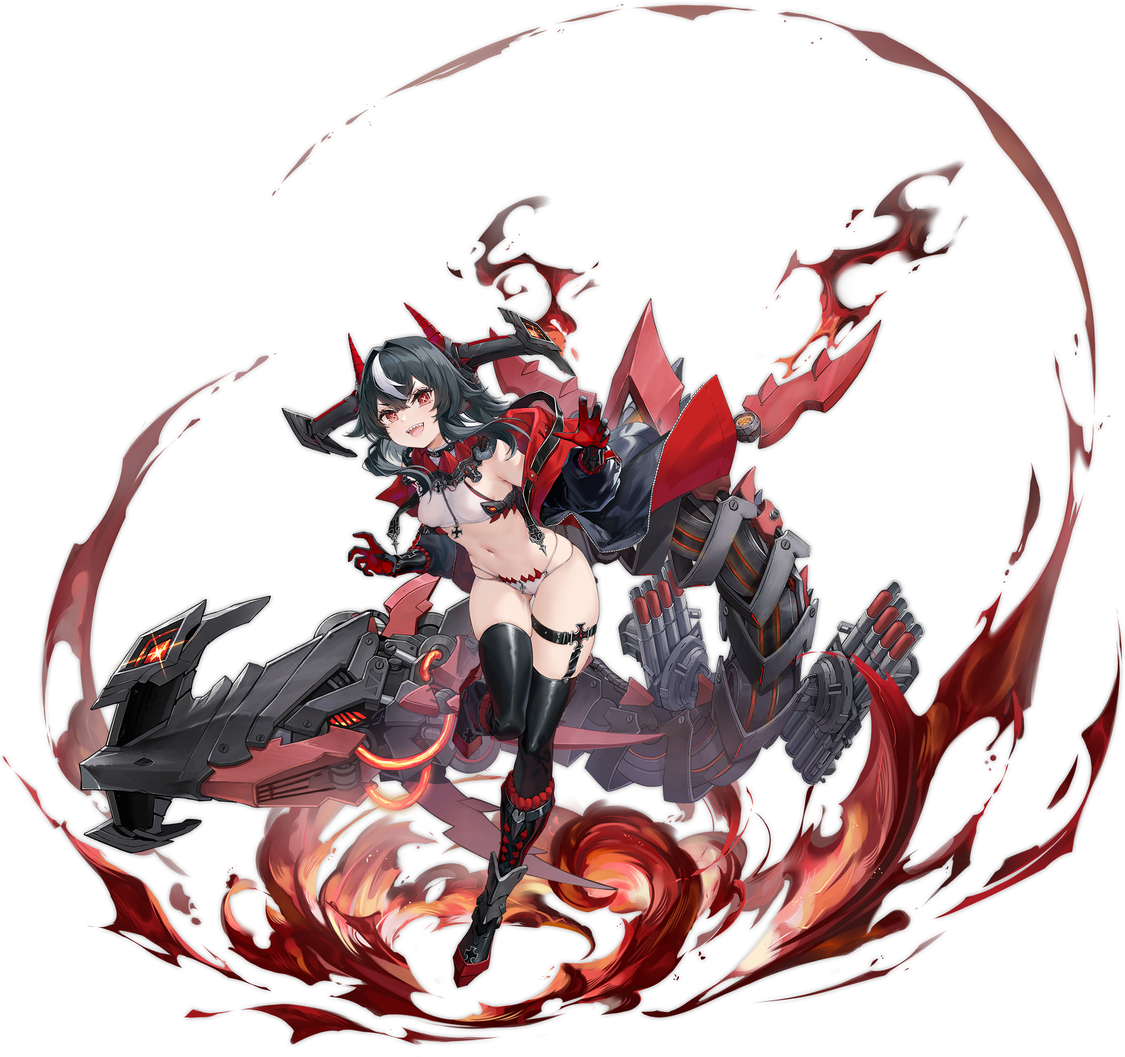person: (234, 318, 699, 999)
